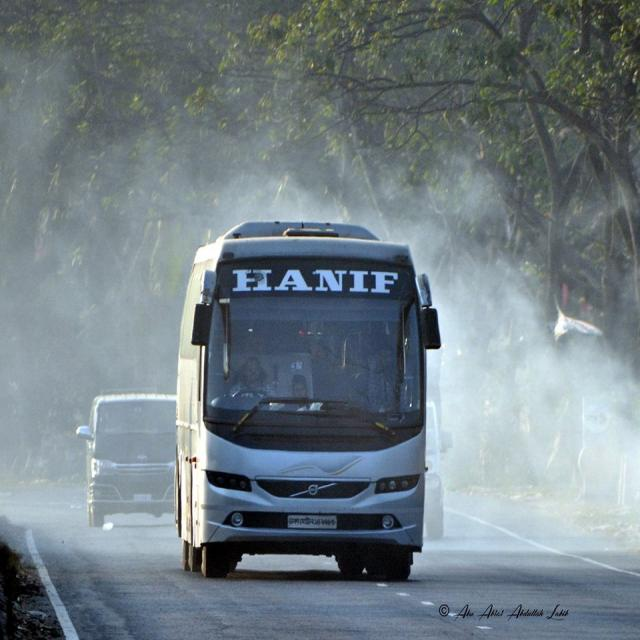bus: (172, 219, 441, 579)
